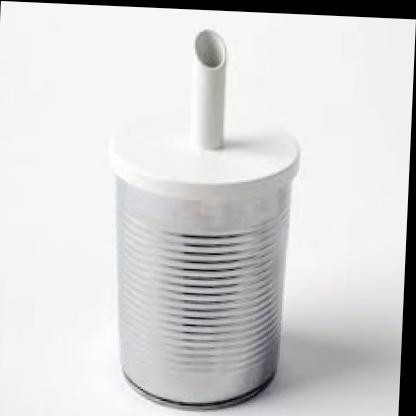Metal: (102, 17, 320, 405)
